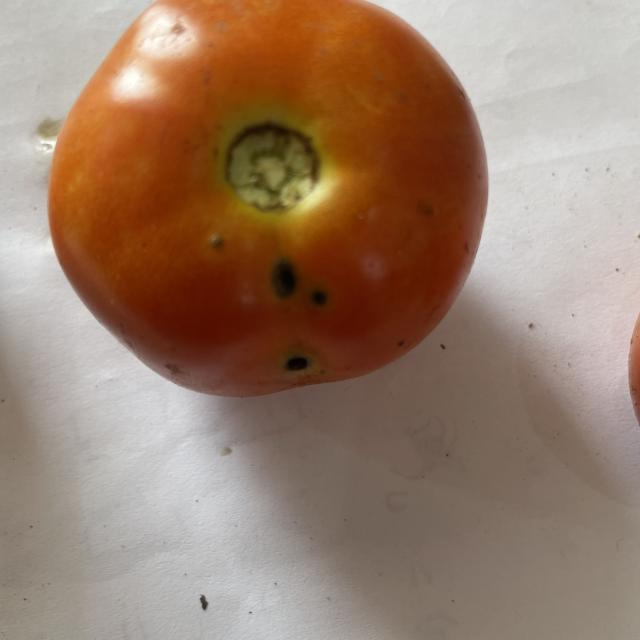fruitworm_bore: (267, 250, 331, 384)
